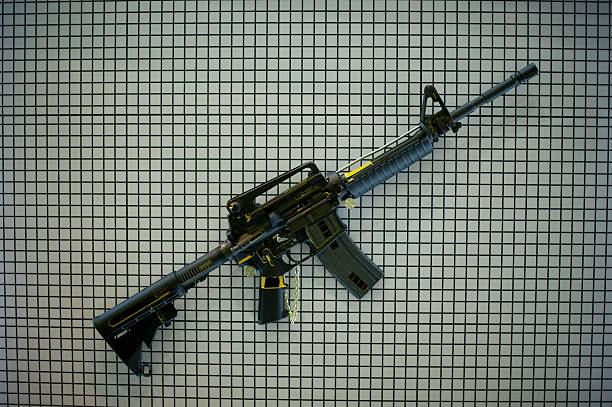rifle: (89, 54, 556, 364)
